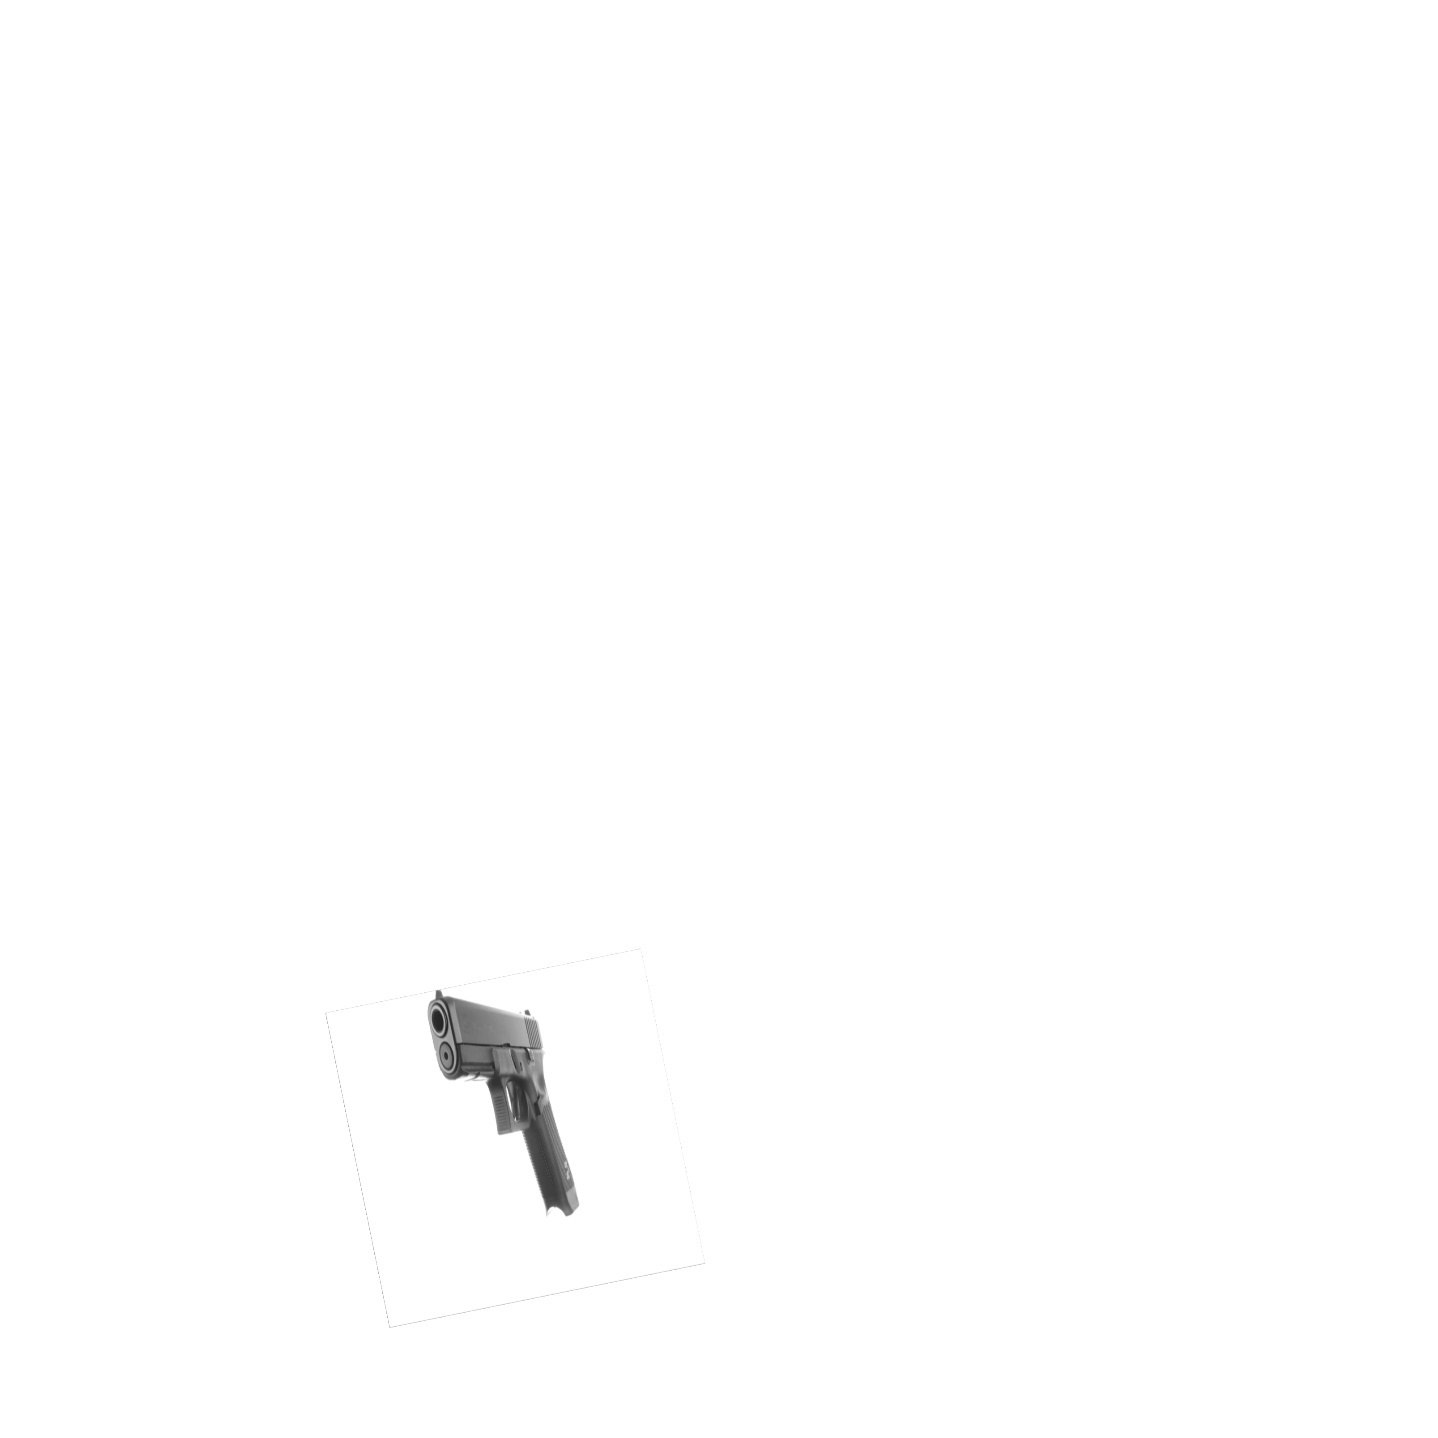gun: (425, 984, 589, 1223)
